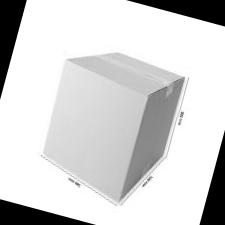cardboard: (21, 29, 202, 216)
